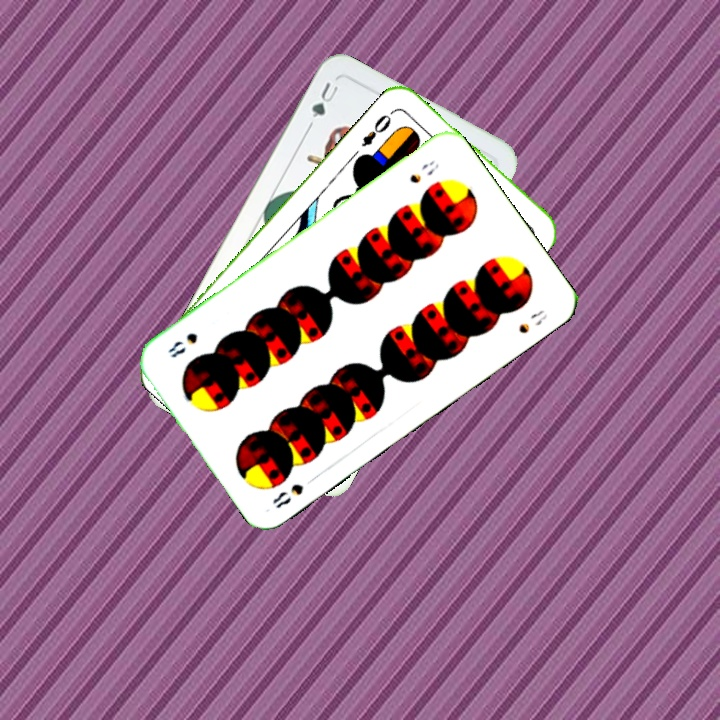EO: (356, 106, 398, 150)
GU: (304, 78, 341, 130)
S8: (268, 479, 306, 511), (405, 157, 442, 186)
